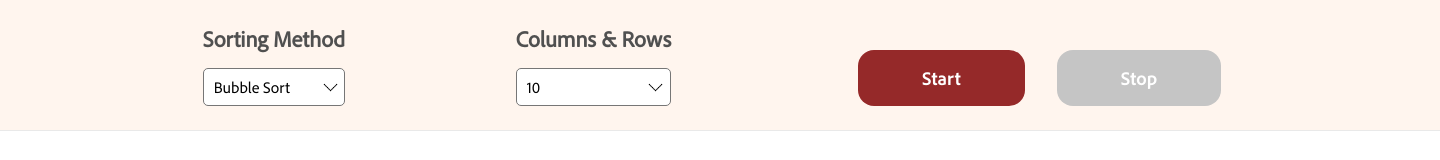
it: <Header/> › disables the canvas config selects and enables the stop button
This screenshot has width=1440, height=160.
Click the button "Start" at [941, 78], box top-left (858, 50), bottom-right (1025, 106)
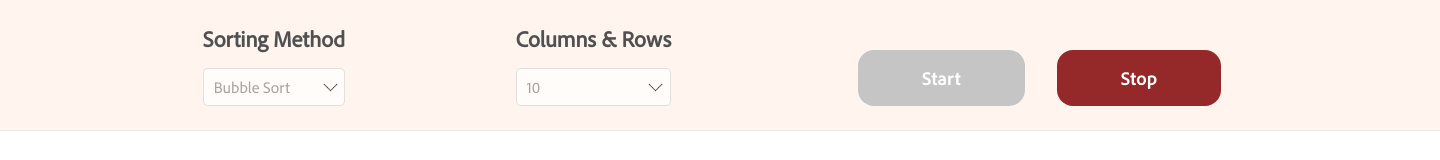
Expected: the dropdown labelled "Sorting Method" is disabled, top-left (203, 68), bottom-right (345, 106)
Expected: the dropdown labelled "Columns & Rows" is disabled, top-left (516, 68), bottom-right (671, 106)
Expected: the button "Stop" is enabled, top-left (1057, 50), bottom-right (1221, 106)
